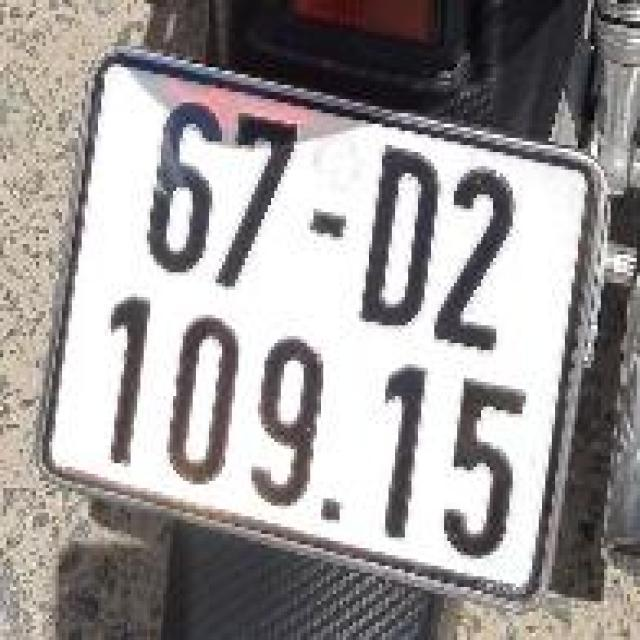0: (152, 299, 258, 493)
1: (87, 281, 173, 474), (364, 350, 444, 550)
2: (423, 150, 536, 366)
5: (435, 368, 541, 566)
6: (139, 87, 235, 285)
7: (203, 99, 320, 297)
9: (237, 315, 337, 516)
D: (343, 127, 457, 338)
